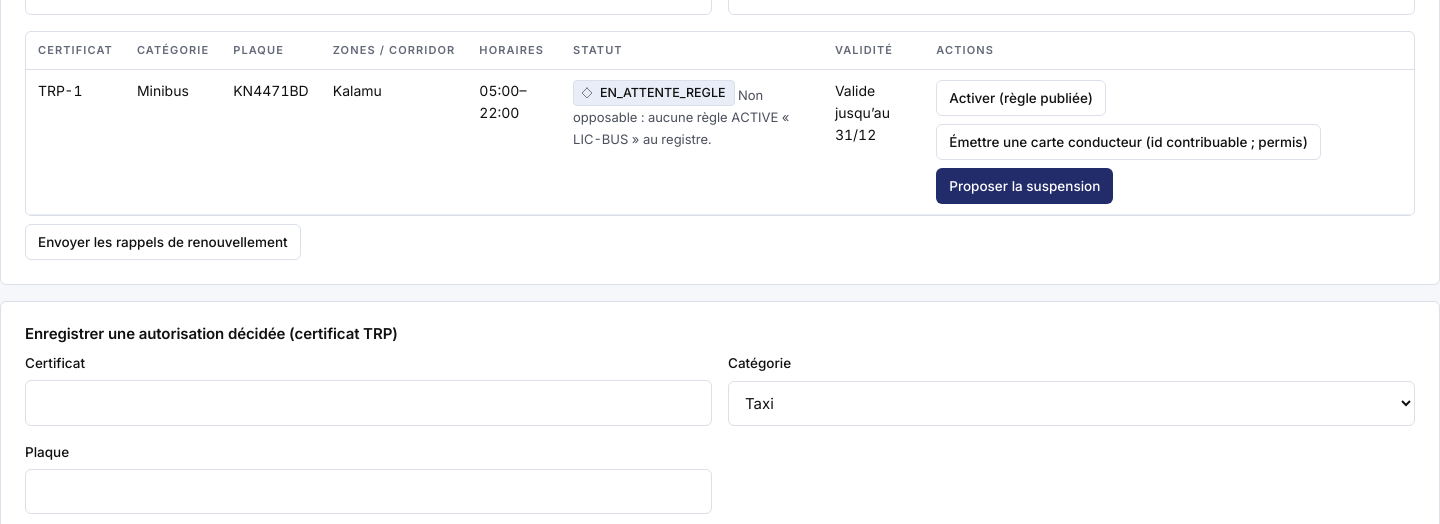
Test: Écrans des modules 7 à 12 et indicateurs › transport : autorisation non opposable sans règle ; contrôle en couleur
(page scrolled)
Check: the text "Non opposable : aucune règle ACTIVE « LIC-BUS » au registre." is shown, box x1=573 y1=87 x2=789 y2=147
Type "KN-4471-BD" into the field labelled "Plaque" at (368, 491), box x1=25 y1=468 x2=712 y2=514
(page scrolled)
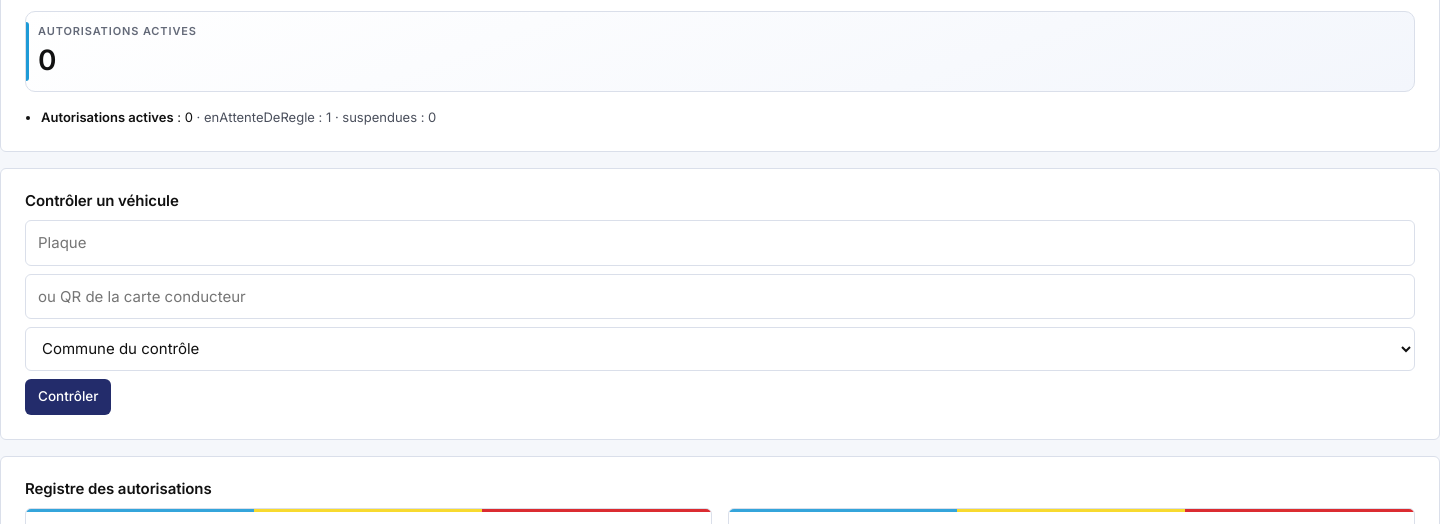
Select "Kalamu" in the dropdown named "Commune du contrôle" at (720, 349), box x1=25 y1=327 x2=1415 y2=371
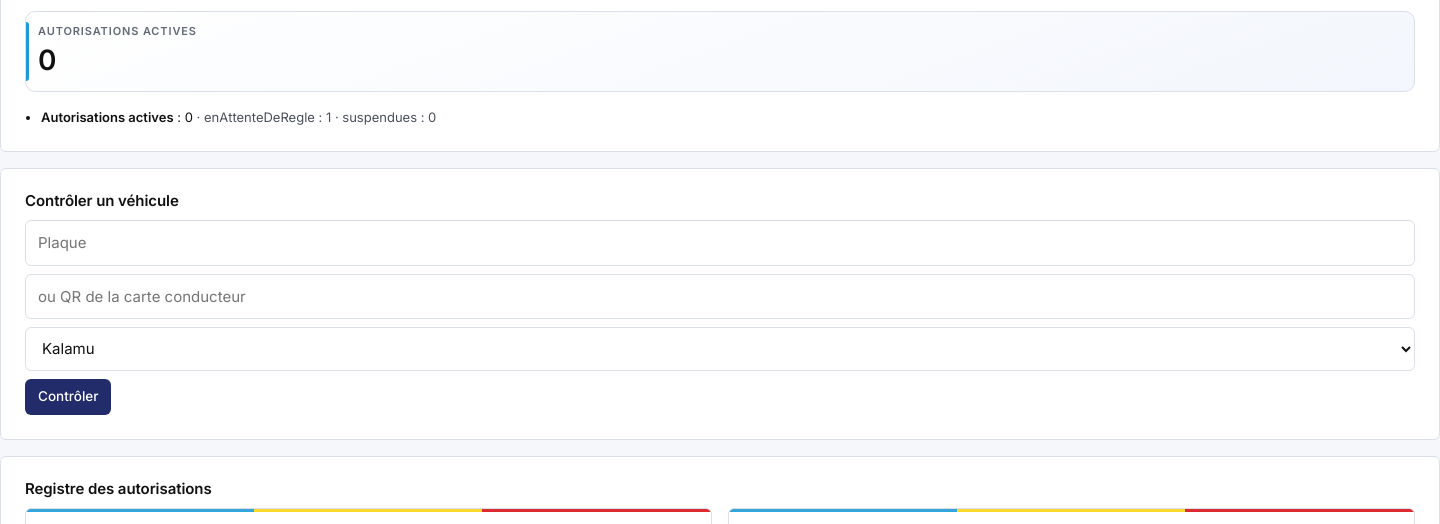
Click the button "Contrôler" at (68, 397), box x1=25 y1=379 x2=112 y2=415
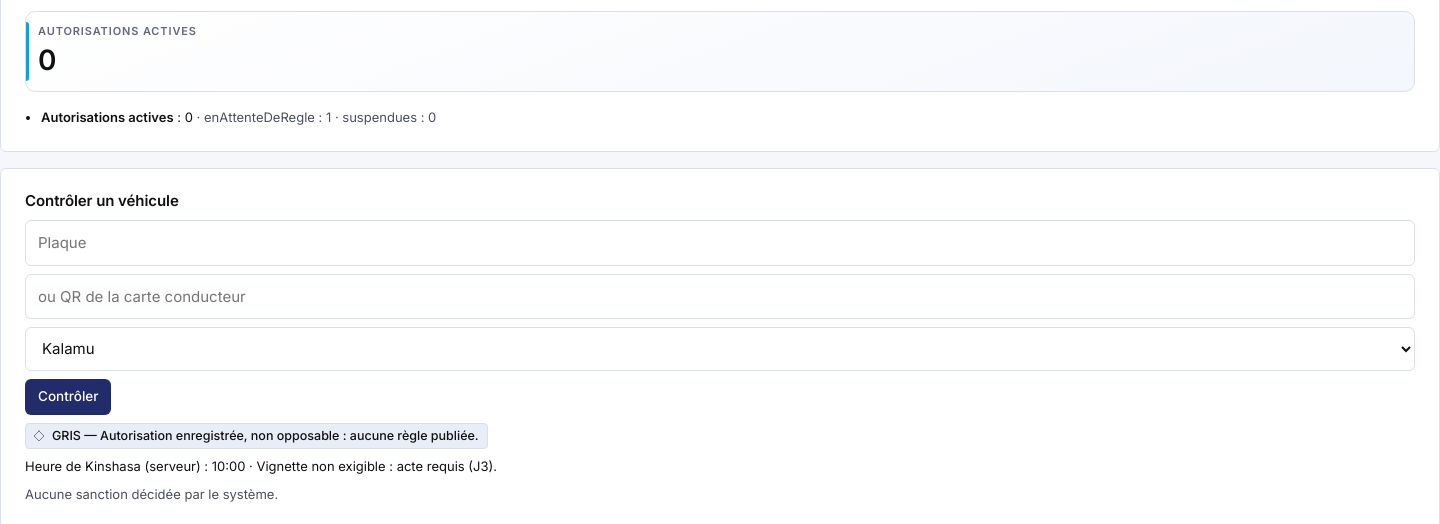
Check: the text "GRIS — Autorisation enregistrée, non opposable" is shown, box x1=52 y1=428 x2=479 y2=443
